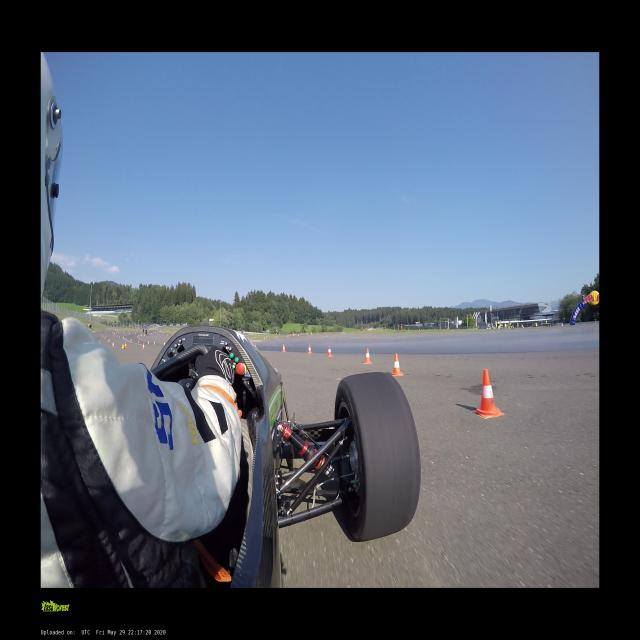orange_cone: (473, 368, 504, 418), (390, 354, 404, 377), (362, 349, 372, 364), (327, 346, 332, 357), (308, 345, 312, 353), (141, 342, 145, 350), (282, 345, 286, 352), (112, 342, 115, 346), (125, 343, 127, 348), (163, 342, 165, 346), (147, 341, 149, 344), (153, 342, 155, 345), (255, 344, 256, 348)
yellow_cone: (121, 344, 124, 348)
